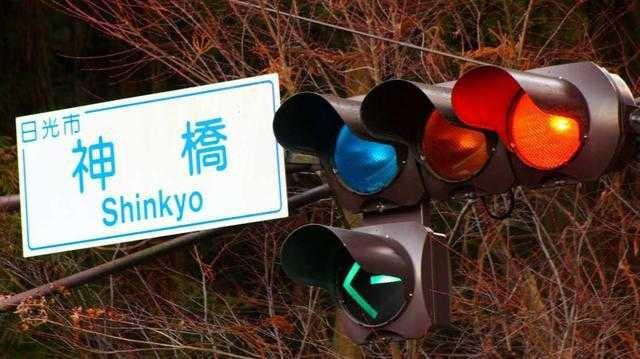green: (284, 219, 429, 335), (271, 91, 405, 202)
red: (451, 56, 593, 184)
